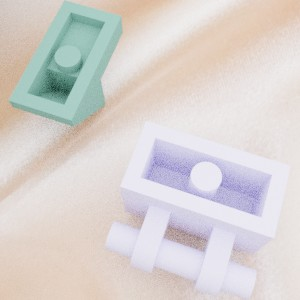lego: (105, 120, 290, 300), (8, 0, 123, 126)
